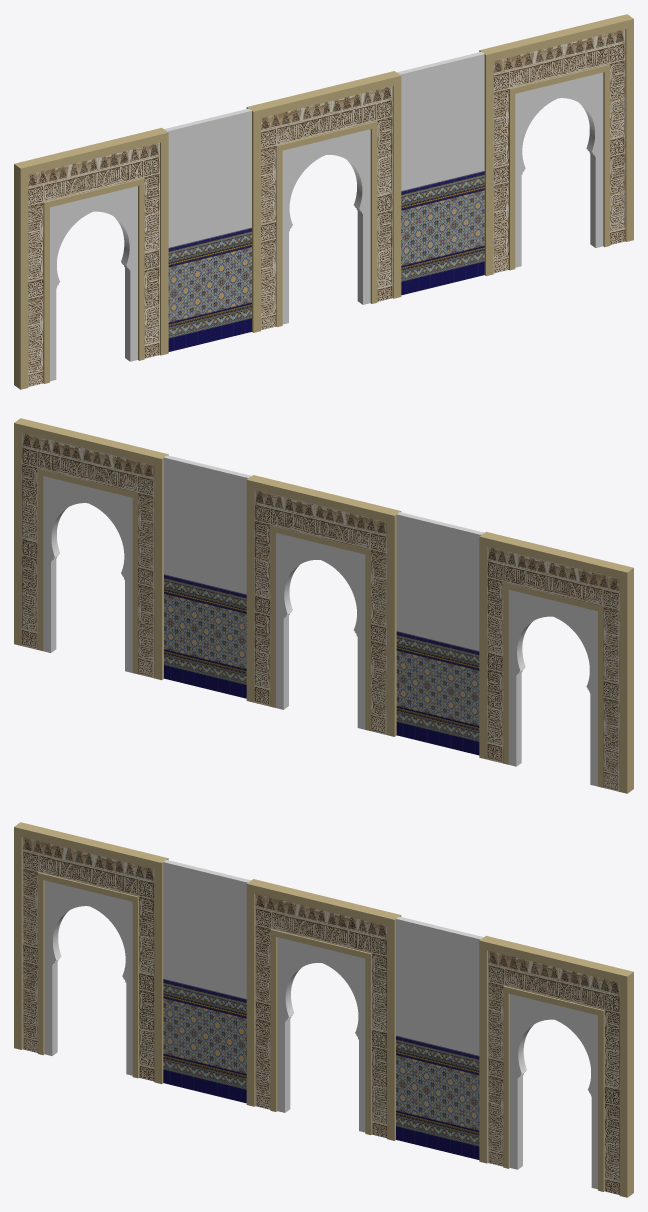
File: Arcs wall.fbx
The picture shows the model from 3 angles, top to bottom: view 1: azimuth 30°, elevation 25°; view 2: azimuth 150°, elevation 25°; view 3: azimuth 330°, elevation 25°; orthographic projection.
Visible parts, largest first — view 1: Arcs wall; view 2: Arcs wall; view 3: Arcs wall.
Part boxes in pixels (left/top/right/bottom): Arcs wall: left=14, top=14, right=633, bottom=389; Arcs wall: left=14, top=418, right=633, bottom=793; Arcs wall: left=14, top=822, right=633, bottom=1197.
Bounding box in the file's own units: 801 × 276 × 15.
Materials: 3 (3 with a texture image).
